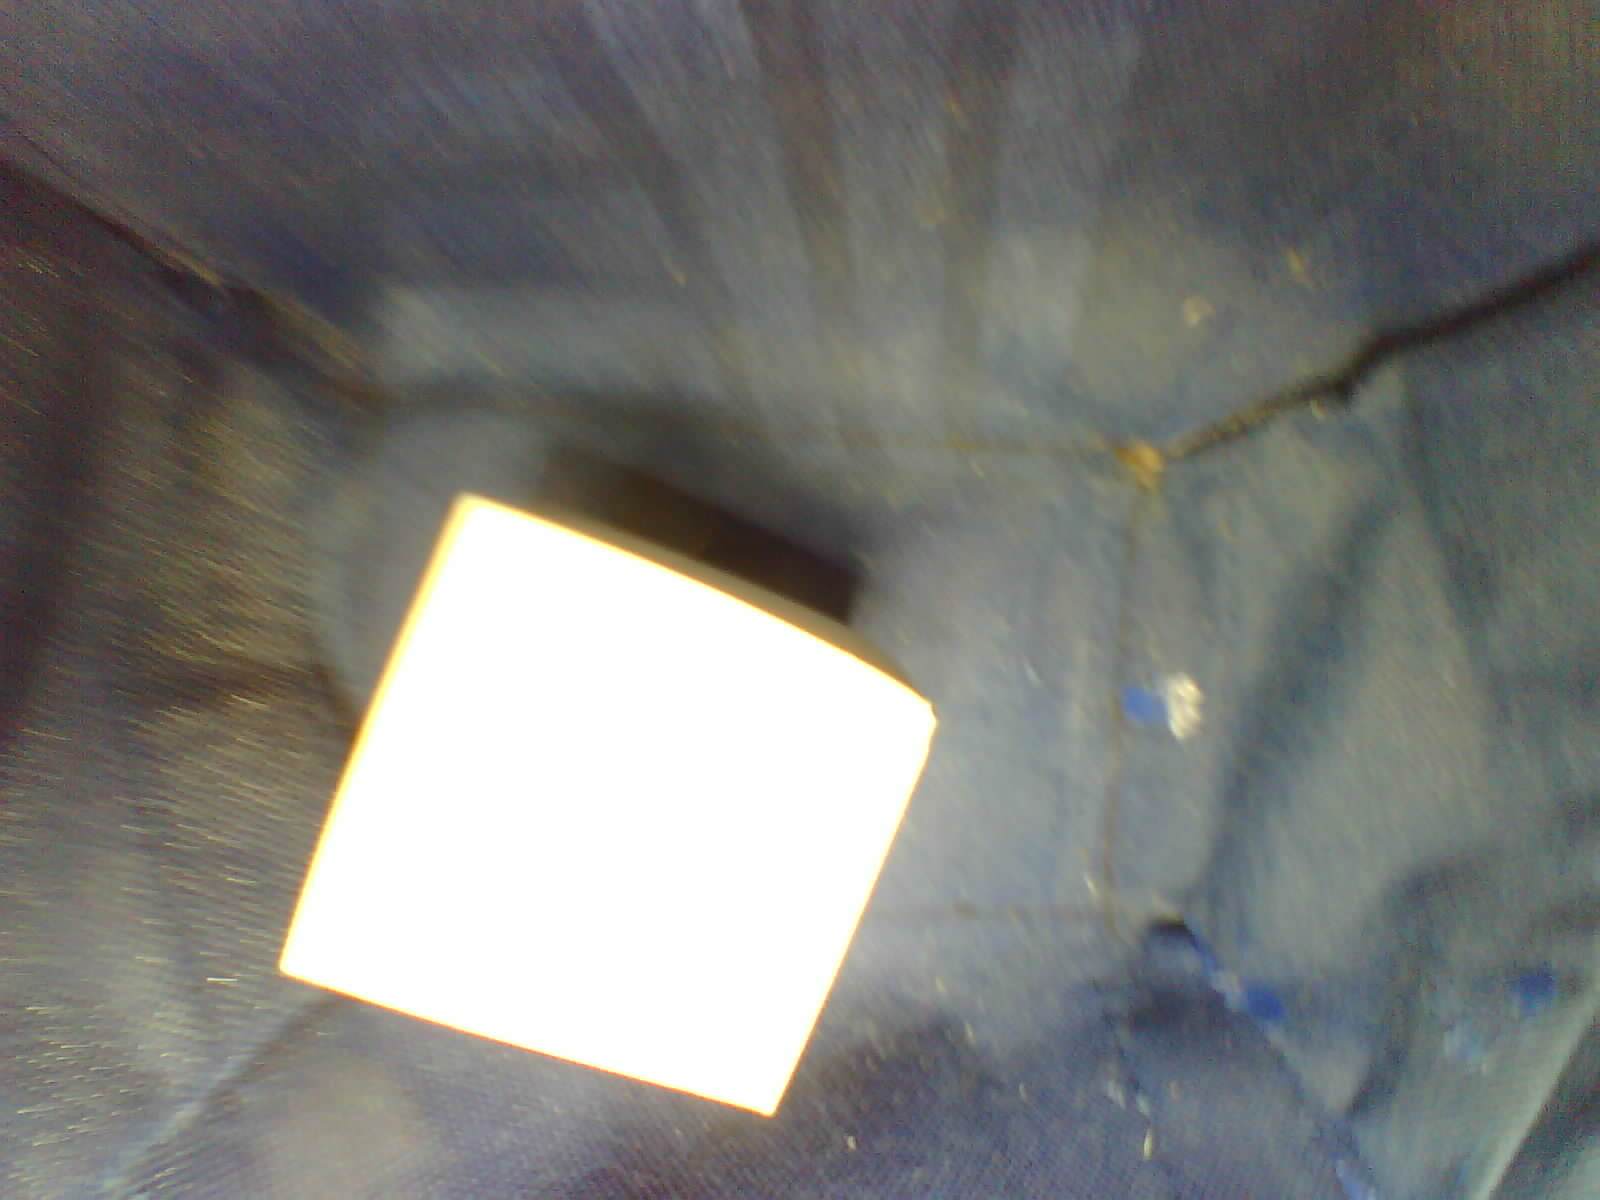cube-hard: (249, 469, 952, 1151)
